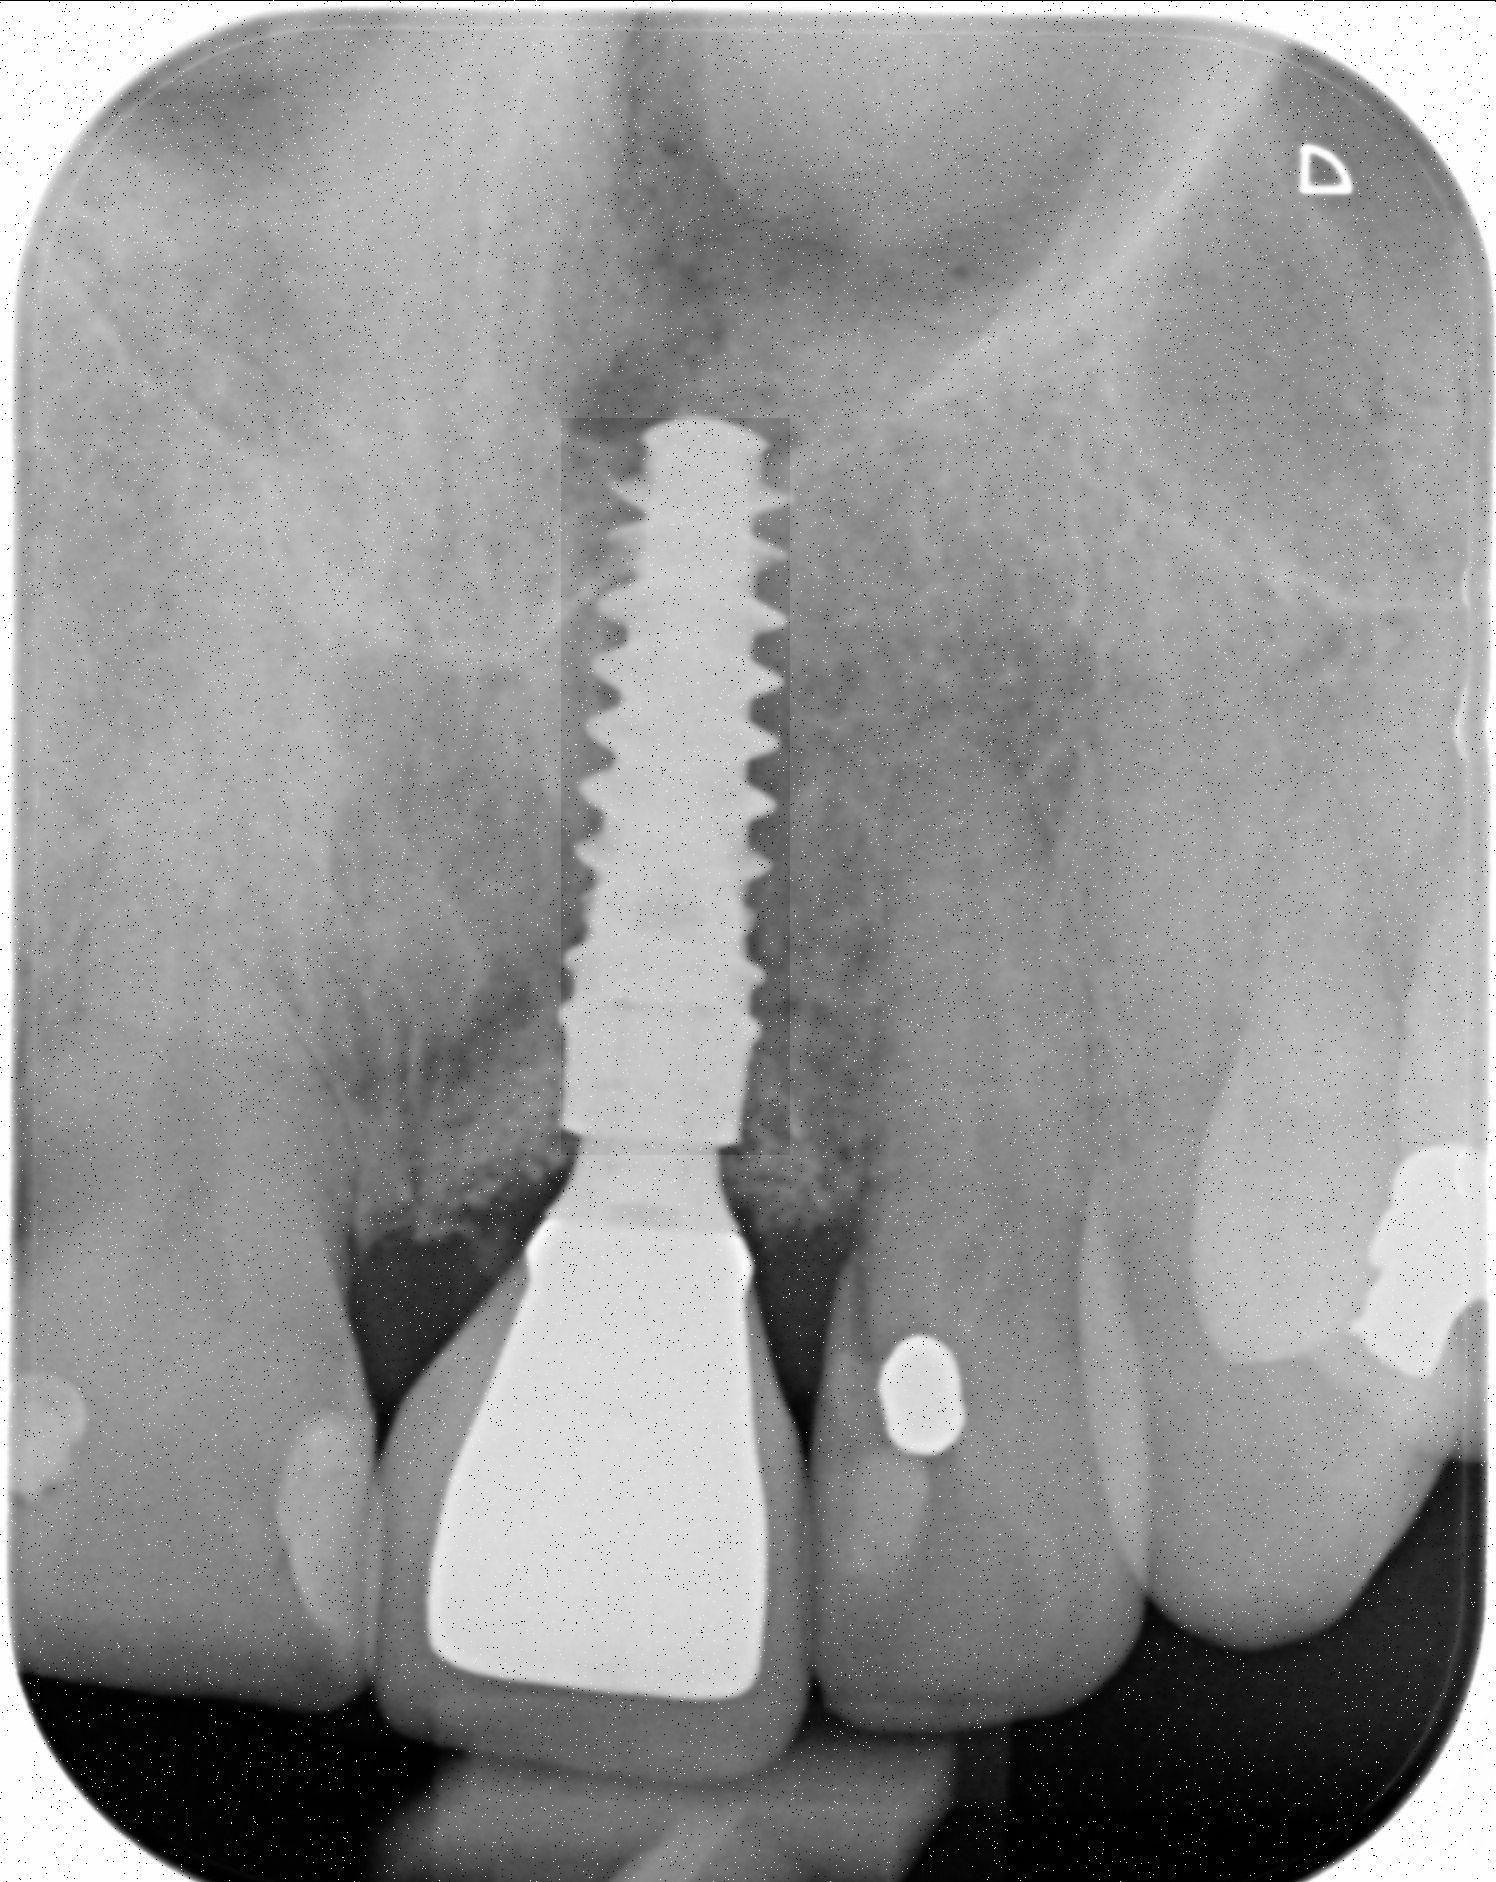Straumann: (553, 411, 809, 1160)
